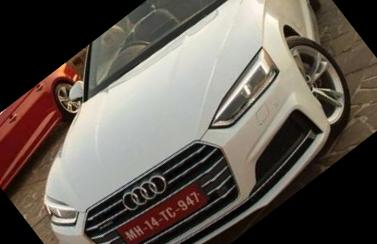plate: (102, 154, 225, 244)
